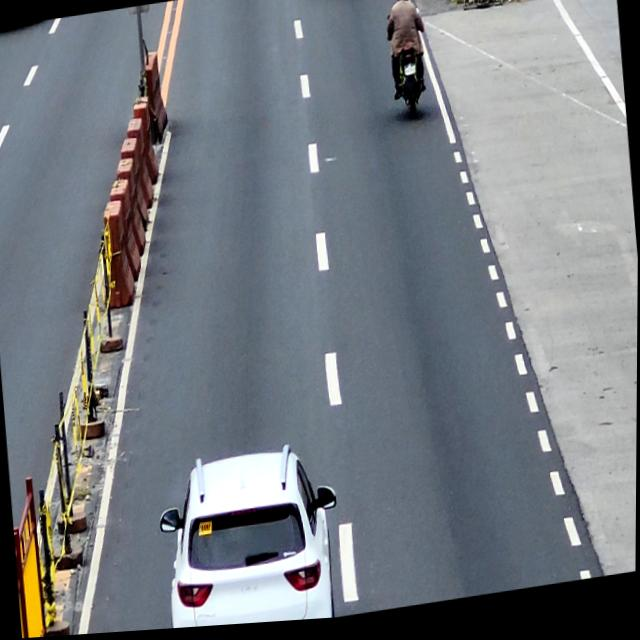Car: (155, 439, 347, 632), (387, 12, 428, 126)
